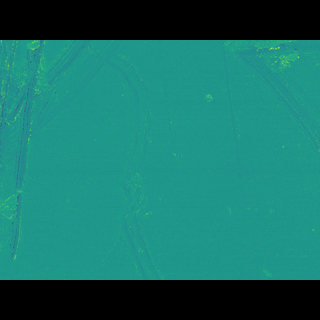Loch: (0, 68, 130, 237), (98, 76, 165, 250), (227, 69, 320, 159), (218, 71, 249, 203)
